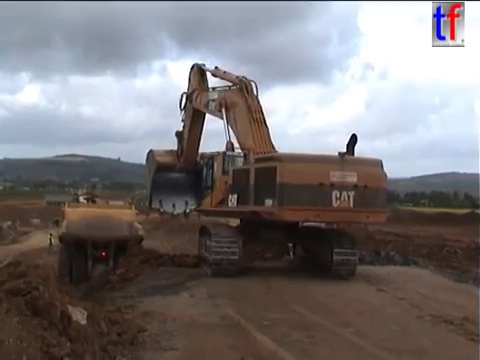excavator: (142, 60, 391, 280)
truck: (53, 198, 147, 287), (43, 192, 92, 208), (69, 190, 98, 205)
worker: (45, 231, 58, 256)
